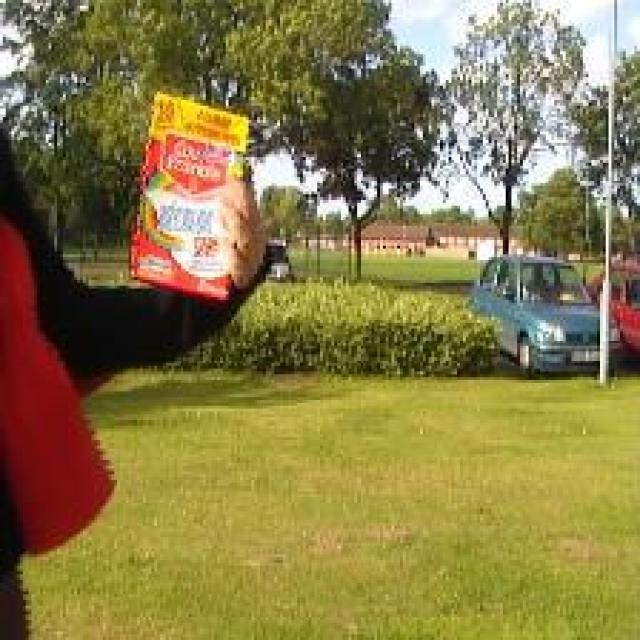other: (2, 228, 146, 546), (134, 79, 248, 294)
